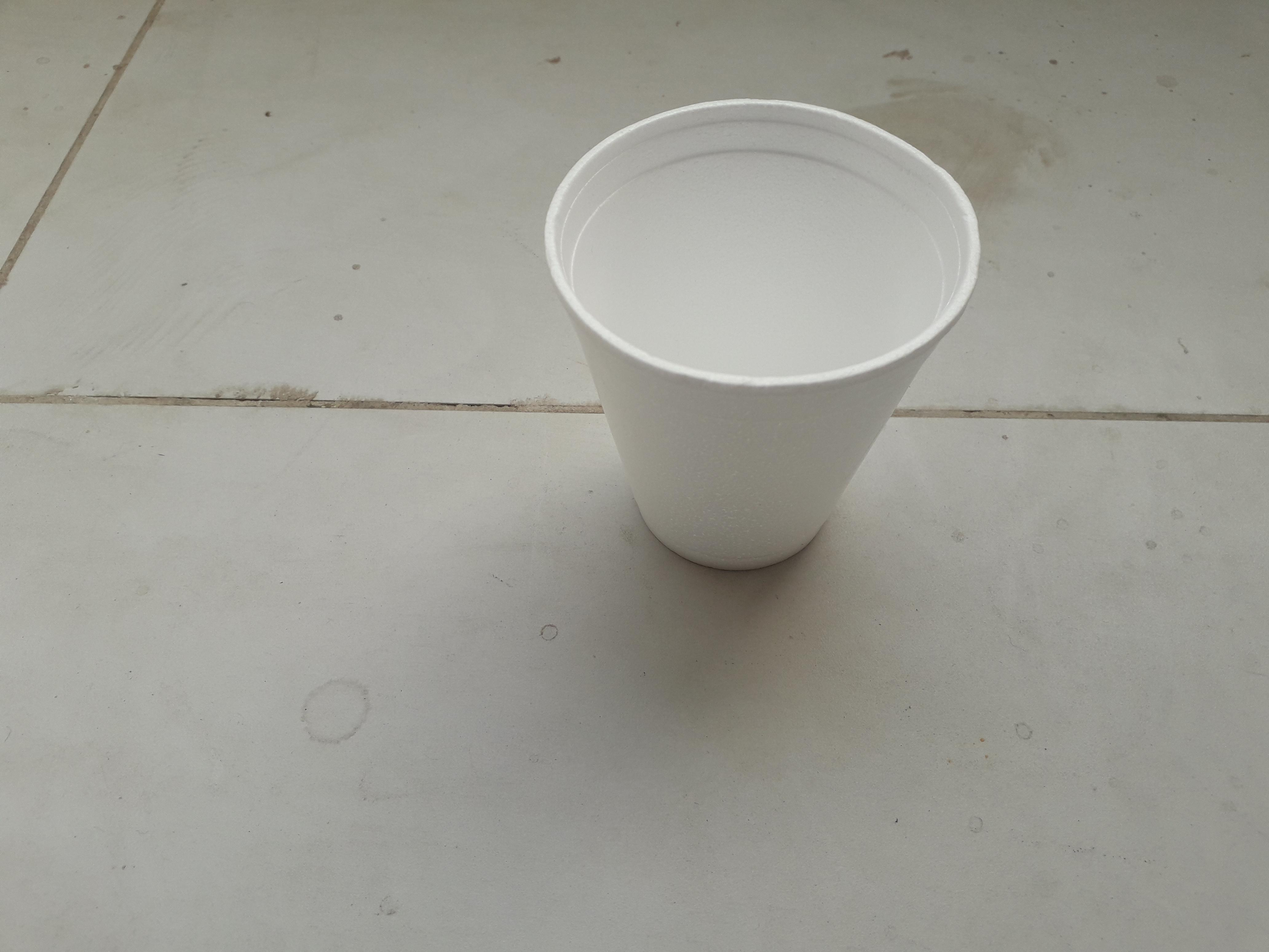cup-disposable: (539, 95, 986, 577)
